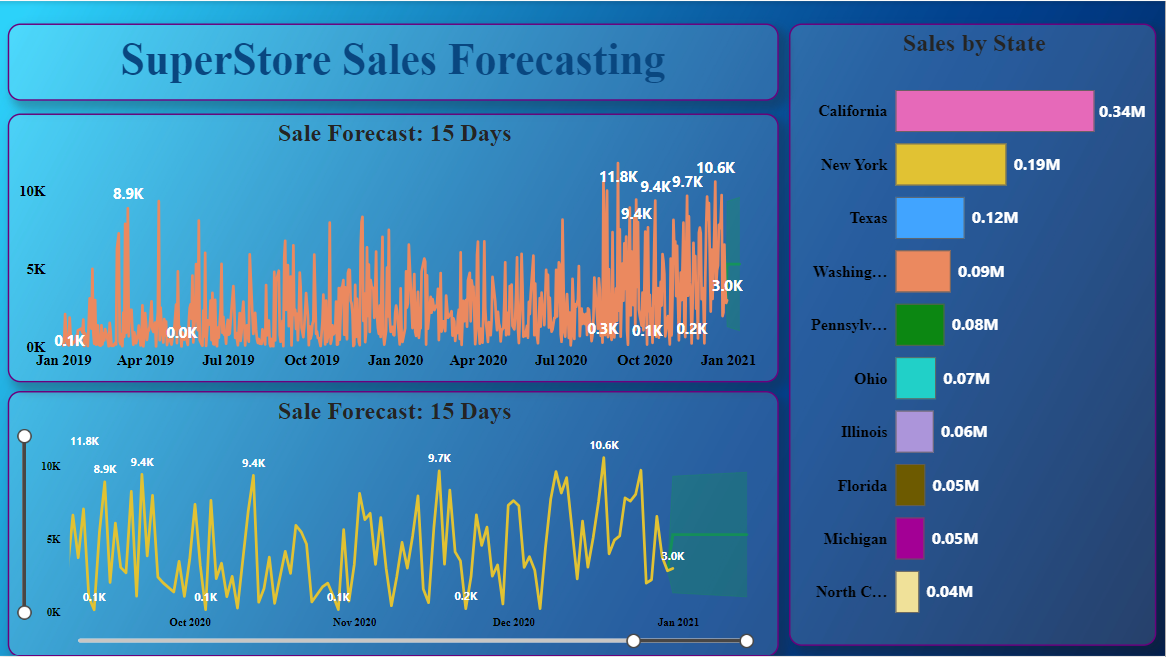

What the dashboard file says about the page in this screenshot:
{"tool":"powerbi","page":{"name":"Sales Forecasting","canvas":[1280,720],"ordinal":1},"visuals":[{"type":"lineChart","title":"Sale Forecast: 15 Days","fields":{"Y":["Sum(SuperStore_Sales_Dataset.Sales)"],"Category":["SuperStore_Sales_Dataset.Order Date"]},"box":[9.6,123.5,846.7,295],"z":0},{"type":"lineChart","title":"Sale Forecast: 15 Days","fields":{"Y":["Sum(SuperStore_Sales_Dataset.Sales)"],"Category":["SuperStore_Sales_Dataset.Order Date"]},"box":[9.6,428.1,846.7,292.3],"z":1000},{"type":"clusteredBarChart","title":" Sales by State","fields":{"Y":["Sum(SuperStore_Sales_Dataset.Sales)"],"Category":["SuperStore_Sales_Dataset.State"]},"box":[867.2,24.7,403.4,683.4],"z":1001},{"type":"textbox","box":[9.6,24.7,846.7,85.1],"z":1002}]}

Visuals, with their boxes in screenshot pixels (x1, y1, x2, y2), scaled from the page's 1280x720 canvas onto the 1166x657 screenshot:
"Sale Forecast: 15 Days" lineChart: (x1=9, y1=113, x2=780, y2=382)
"Sale Forecast: 15 Days" lineChart: (x1=9, y1=391, x2=780, y2=656)
" Sales by State" clusteredBarChart: (x1=790, y1=23, x2=1157, y2=646)
textbox: (x1=9, y1=23, x2=780, y2=100)
